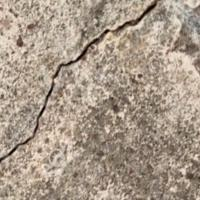crack: (1, 0, 175, 169)
